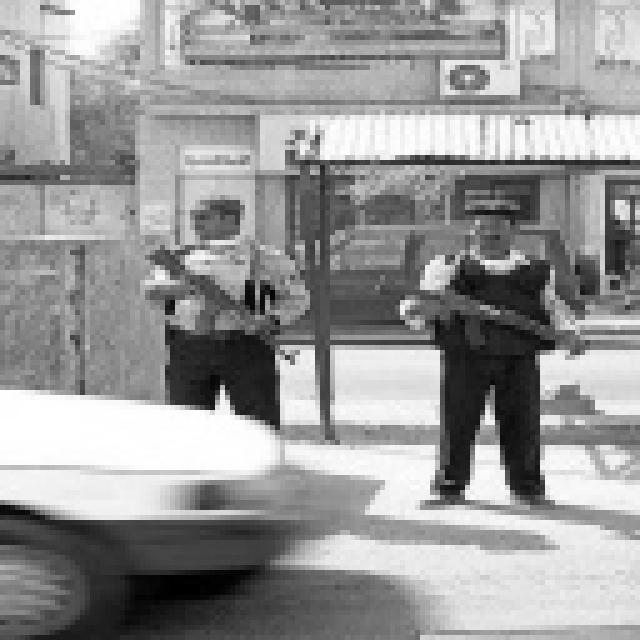Rifle: (368, 255, 624, 377), (138, 219, 313, 370)
